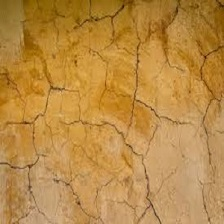clay_soil: (10, 28, 220, 202)
